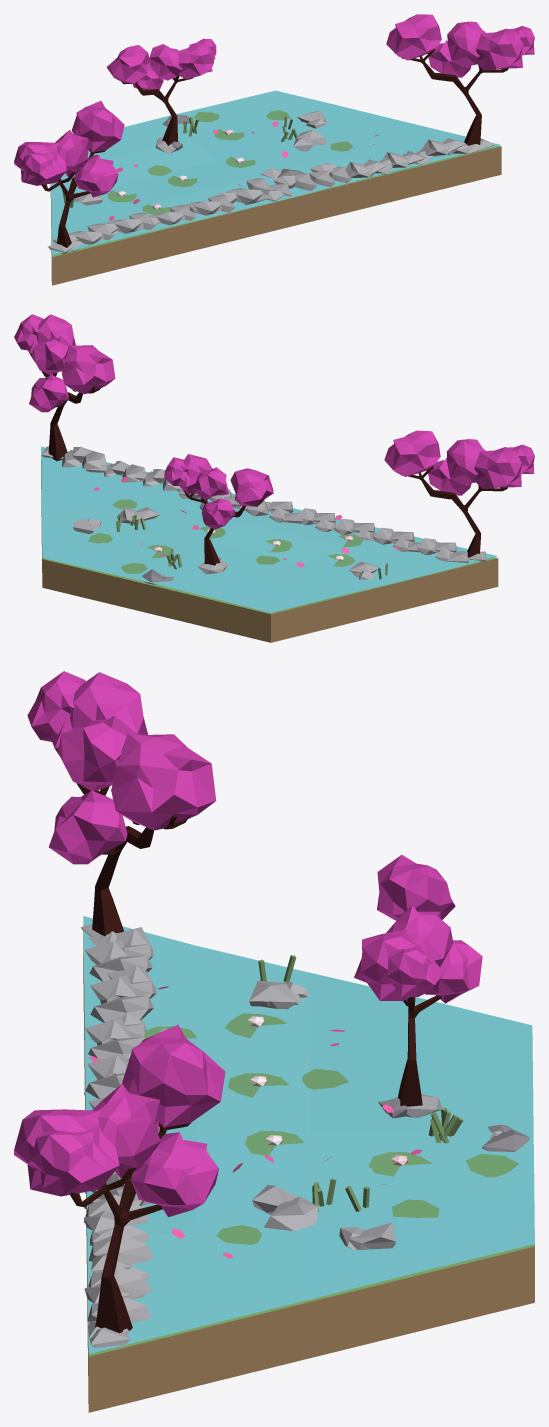
File: river split tile.glb
3 renders of one model, top to bottom at view 1: azimuth 30°, elevation 25°; view 2: azimuth 150°, elevation 25°; view 3: azimuth 270°, elevation 25°, orthographic. The views are drawn at different scales.
Parts seen in each view (by area): view 1: SplitRiverWater, SplitBase, Tree_0_Icosphere.005, Tree_0_Icosphere, Tree_0_Icosphere.009, Tree_0_Icosphere.007, Tree_0_Icosphere.004, Tree_0_Icosphere.010, Tree_0_Cube.001, Tree_0_Icosphere.014, Tree_0_Icosphere.003, Tree_0_Icosphere.001 (+9 smaller); view 2: SplitRiverWater, SplitBase, Tree_0_Icosphere.005, Tree_0_Icosphere, Tree_0_Icosphere.002, Tree_0_Icosphere.003, Tree_0_Icosphere.010, Tree_0_Icosphere.006, Tree_0_Cube, Tree_0_Icosphere.007, Tree_0_Icosphere.009, Tree_0_Cube.001 (+8 smaller); view 3: SplitRiverWater, SplitBase, Tree_0_Icosphere, Tree_0_Icosphere.005, Tree_0_Icosphere.006, Tree_0_Icosphere.004, Tree_0_Icosphere.007, Tree_0_Icosphere.008, Tree_0_Cube.001, Tree_0_Icosphere.003, Tree_0_Icosphere.010, Tree_0_Icosphere.009 (+16 smaller).
Boxes of the visible parts, x1,y1,x2,y2 form: SplitRiverWater: (51,90,500,255); SplitBase: (50,146,501,285); Tree_0_Icosphere.005: (386,14,441,60); Tree_0_Icosphere: (71,101,124,152); Tree_0_Icosphere.009: (476,28,523,70); Tree_0_Icosphere.007: (447,21,485,66); Tree_0_Icosphere.004: (74,155,118,197); Tree_0_Icosphere.010: (106,45,150,83); Tree_0_Cube.001: (402,49,508,145); Tree_0_Icosphere.014: (177,43,213,79); Tree_0_Icosphere.003: (55,130,88,177); Tree_0_Icosphere.001: (21,153,59,184); SplitRiverWater: (41,446,497,612); SplitBase: (41,459,498,642); Tree_0_Icosphere.005: (62,345,115,394); Tree_0_Icosphere: (384,430,440,476); Tree_0_Icosphere.002: (474,447,521,488); Tree_0_Icosphere.003: (446,439,485,484); Tree_0_Icosphere.010: (230,468,273,506); Tree_0_Icosphere.006: (29,374,68,412); Tree_0_Cube: (401,466,507,557); Tree_0_Icosphere.007: (32,336,70,374); Tree_0_Icosphere.009: (26,314,75,362); Tree_0_Cube.001: (41,371,101,461); SplitRiverWater: (83,916,534,1353); SplitBase: (83,924,534,1412); Tree_0_Icosphere: (111,733,216,830); Tree_0_Icosphere.005: (122,1025,225,1127); Tree_0_Icosphere.006: (131,1132,218,1217); Tree_0_Icosphere.004: (49,790,127,864); Tree_0_Icosphere.007: (92,1084,160,1177); Tree_0_Icosphere.008: (29,1131,107,1193); Tree_0_Cube.001: (70,1122,190,1333); Tree_0_Icosphere.003: (58,715,135,791); Tree_0_Icosphere.010: (377,855,455,920); Tree_0_Icosphere.009: (14,1109,119,1196).
Size of the model in its own units: 5.66 by 1.67 by 2.52.
